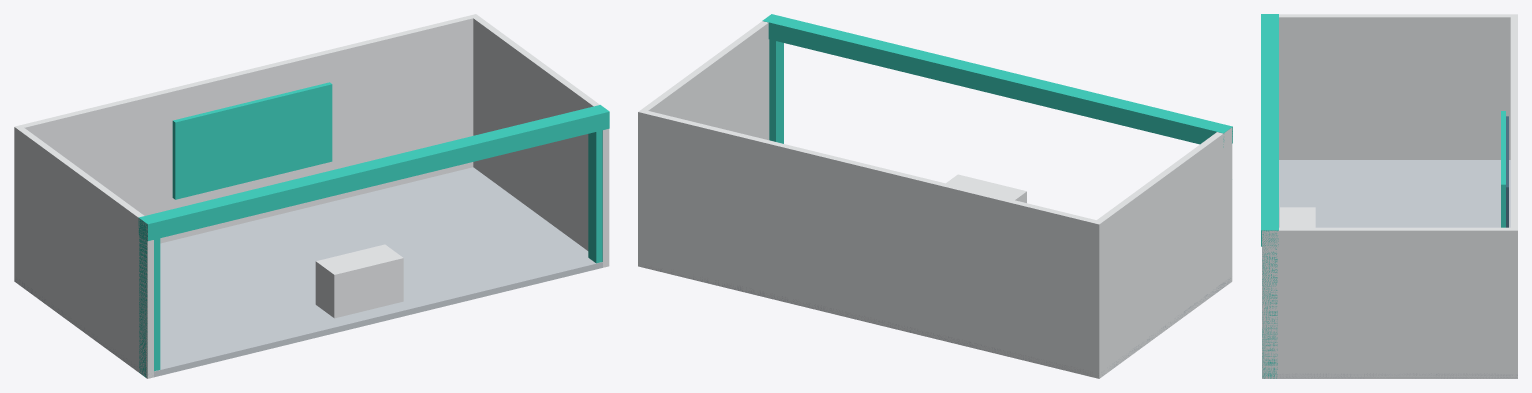
3 views of the same model, side by side, from view 1: azimuth 30°, elevation 25°; view 2: azimuth 150°, elevation 25°; view 3: azimuth 270°, elevation 25° (orthographic). The views are drawn at different scales.
Parts seen in each view (by area): view 1: Exhibition Booth Concept; view 2: Exhibition Booth Concept; view 3: Exhibition Booth Concept.
Part boxes in pixels (bbox=[...]): Exhibition Booth Concept: bbox=[14, 14, 609, 378]; Exhibition Booth Concept: bbox=[638, 14, 1232, 378]; Exhibition Booth Concept: bbox=[1261, 14, 1517, 378].
Bounding box in the file's own units: 10 × 3.2 × 5.02.
